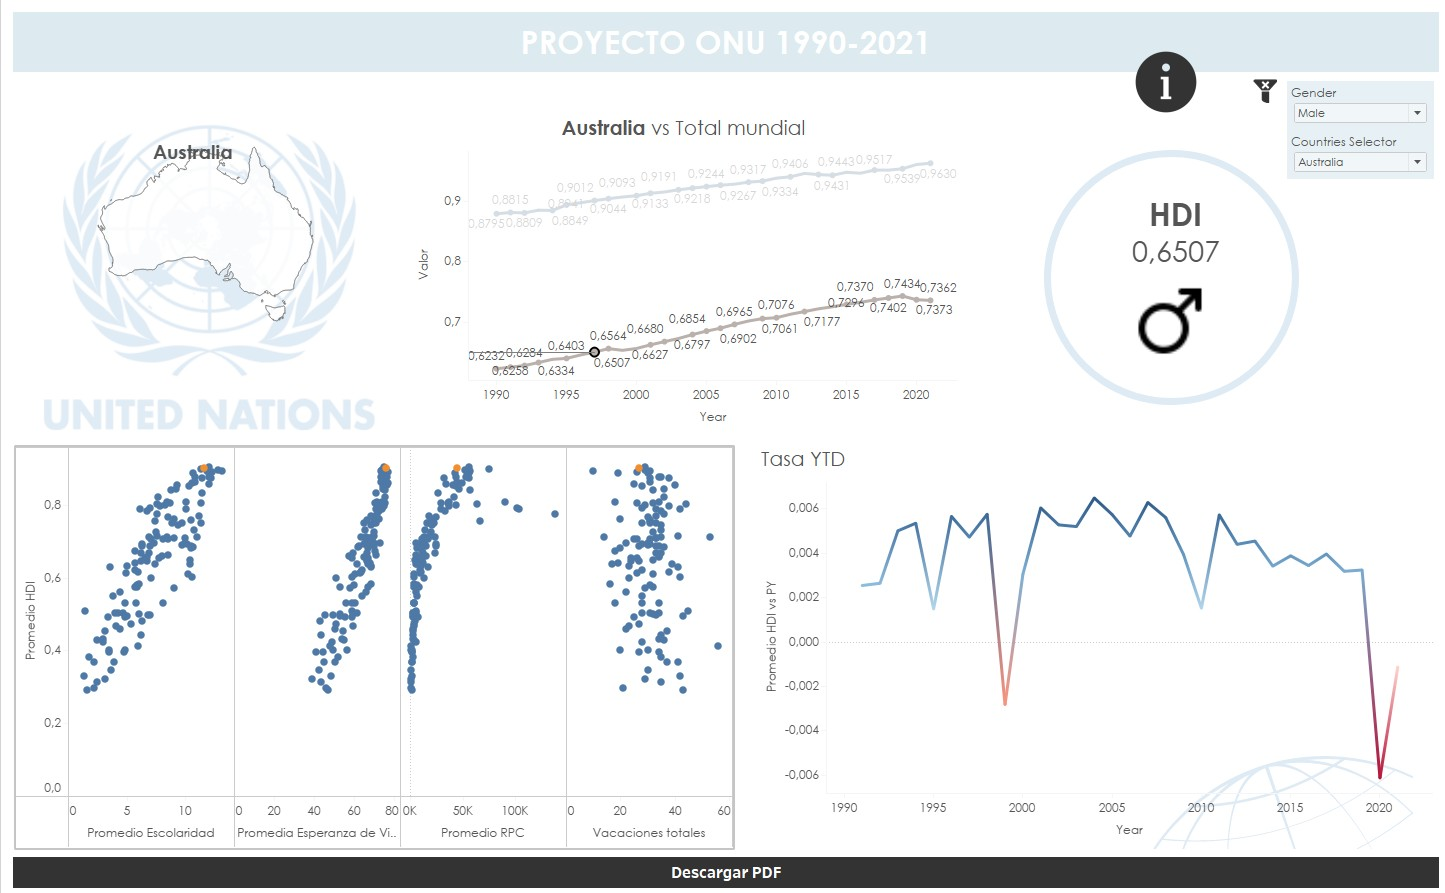

The page's visual inventory and layout, read from the dashboard file:
{"tool":"tableau","page":{"name":"Dashboard 1","canvas":[1450,900],"ordinal":0},"visuals":[{"type":"text","box":[8,8,1434,68]},{"type":"worksheet","title":"Info Icon","mark":"Shape","box":[1071,15,188,133]},{"type":"image","param":"Image/Fondo ONU.PNG","box":[8,76,1434,777]},{"type":"dashboard-object","box":[1252,79,24,24]},{"type":"filter","title":"Comparativa HDI","param":"[federated.0ggh8w21sriomc1963upj1l6226g].[none:Gender:nk]","box":[1286,81,147,49]},{"type":"worksheet","title":"Comparativa HDI","mark":"Automatic","cols":["Year"],"box":[408,111,549,320]},{"type":"worksheet","title":"Country name","mark":"Automatic","box":[23,124,338,57]},{"type":"parameter","param":"[Parameters].[Parámetro 4]","box":[1286,130,147,49]},{"type":"worksheet","title":"Country Icon","mark":"Multipolygon","box":[55,140,299,188]},{"type":"worksheet","title":"KPI","mark":"Automatic","box":[1070,164,212,137]},{"type":"worksheet","title":"Gender Icon","mark":"Shape","box":[1107,280,132,137]},{"type":"worksheet","title":"Tasa YTD","mark":"Automatic","rows":["Calculation_590534538247786501"],"cols":["Year"],"box":[756,443,676,401]},{"type":"worksheet","title":"Dispersion multiple","mark":"Circle","rows":["Calculation_590534538243989504"],"cols":["Calculation_590534538244575235","Calculation_590534538244415489","Calculation_590534538244501506","Calculation_590534538244653060"],"box":[15,447,717,401]},{"type":"dashboard-object","box":[8,853,1434,39]}]}

Visuals, with their boxes in screenshot pixels (x1, y1, x2, y2), scaled from the page's 1450x900 canvas onto the 1445x893 screenshot:
text: left=8, top=8, right=1437, bottom=75
"Info Icon" worksheet (Shape marks): left=1067, top=15, right=1255, bottom=147
image: left=8, top=75, right=1437, bottom=846
dashboard-object: left=1248, top=78, right=1272, bottom=102
"Comparativa HDI" filter: left=1282, top=80, right=1428, bottom=129
"Comparativa HDI" worksheet: left=407, top=110, right=954, bottom=428
"Country name" worksheet: left=23, top=123, right=360, bottom=180
parameter: left=1282, top=129, right=1428, bottom=178
"Country Icon" worksheet (Multipolygon marks): left=55, top=139, right=353, bottom=325
"KPI" worksheet: left=1066, top=163, right=1278, bottom=299
"Gender Icon" worksheet (Shape marks): left=1103, top=278, right=1235, bottom=414
"Tasa YTD" worksheet: left=753, top=440, right=1427, bottom=837
"Dispersion multiple" worksheet (Circle marks): left=15, top=444, right=729, bottom=841
dashboard-object: left=8, top=846, right=1437, bottom=885
